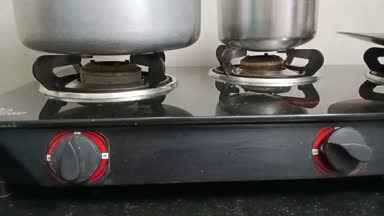noflame_gason: (231, 49, 375, 174), (42, 46, 151, 187)
